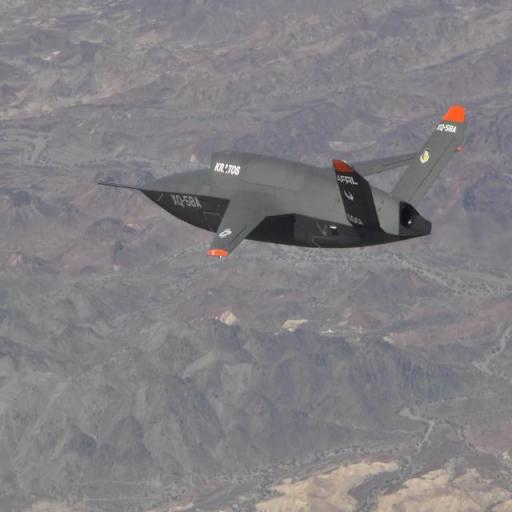uav: (86, 104, 472, 269)
